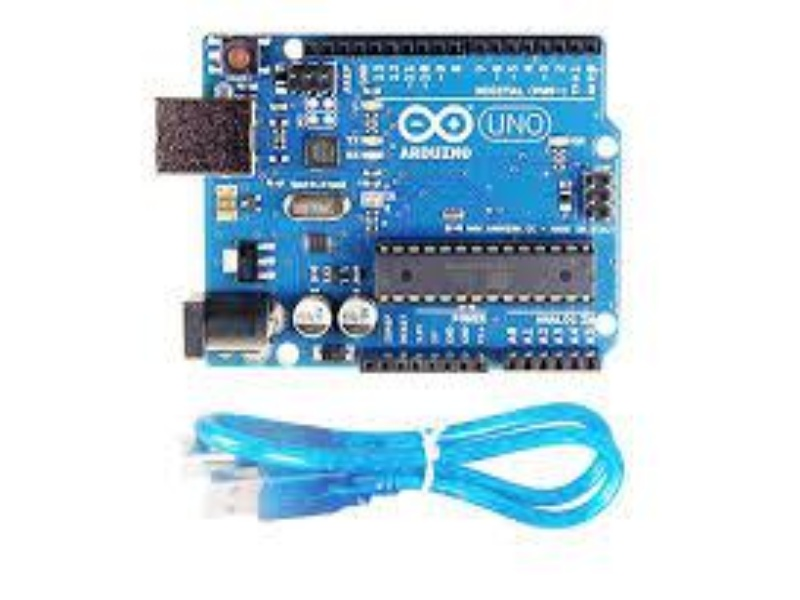uno: (139, 17, 646, 391)
